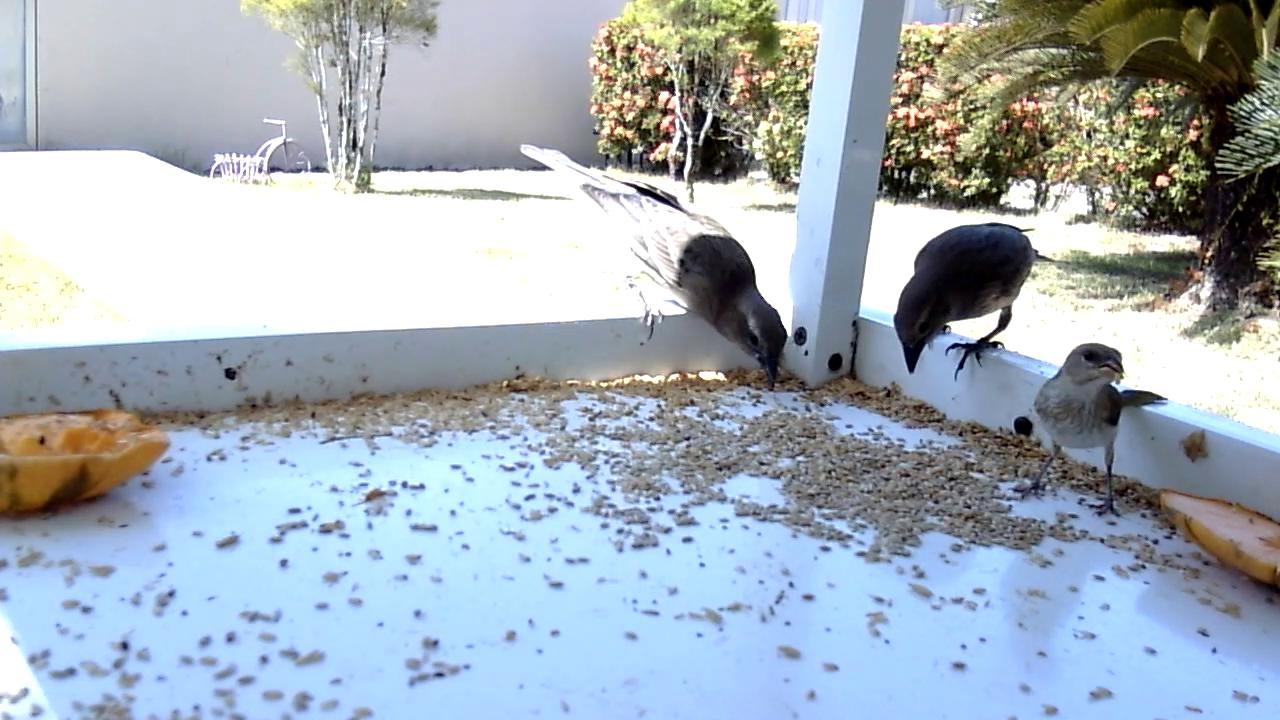canario_do_amazonas: (1005, 342, 1170, 523)
chupim: (519, 141, 791, 394), (891, 219, 1060, 386)
